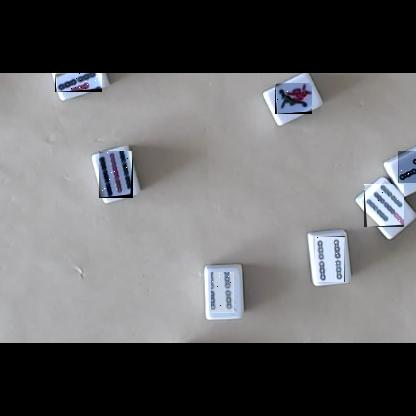1s: (275, 83, 312, 114)
3s: (398, 151, 416, 183)
4s: (315, 236, 345, 282), (212, 273, 237, 316)
5s: (55, 73, 102, 92)
7s: (364, 184, 404, 227)
9s: (99, 151, 133, 198)
